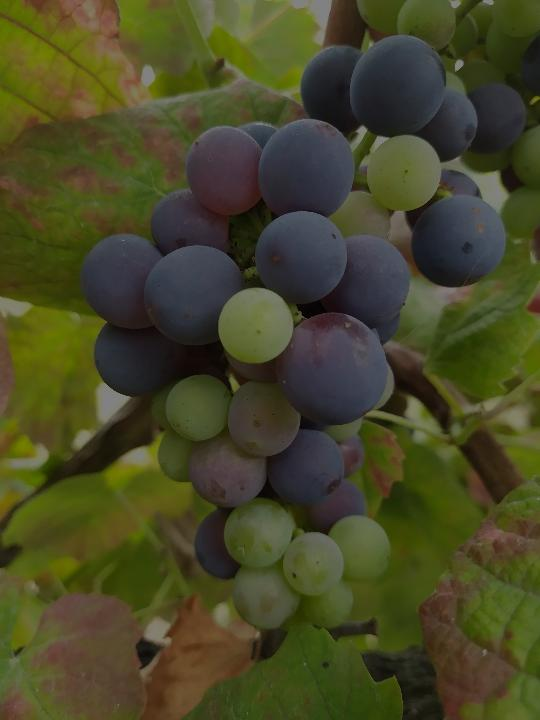grape: (76, 117, 415, 635)
